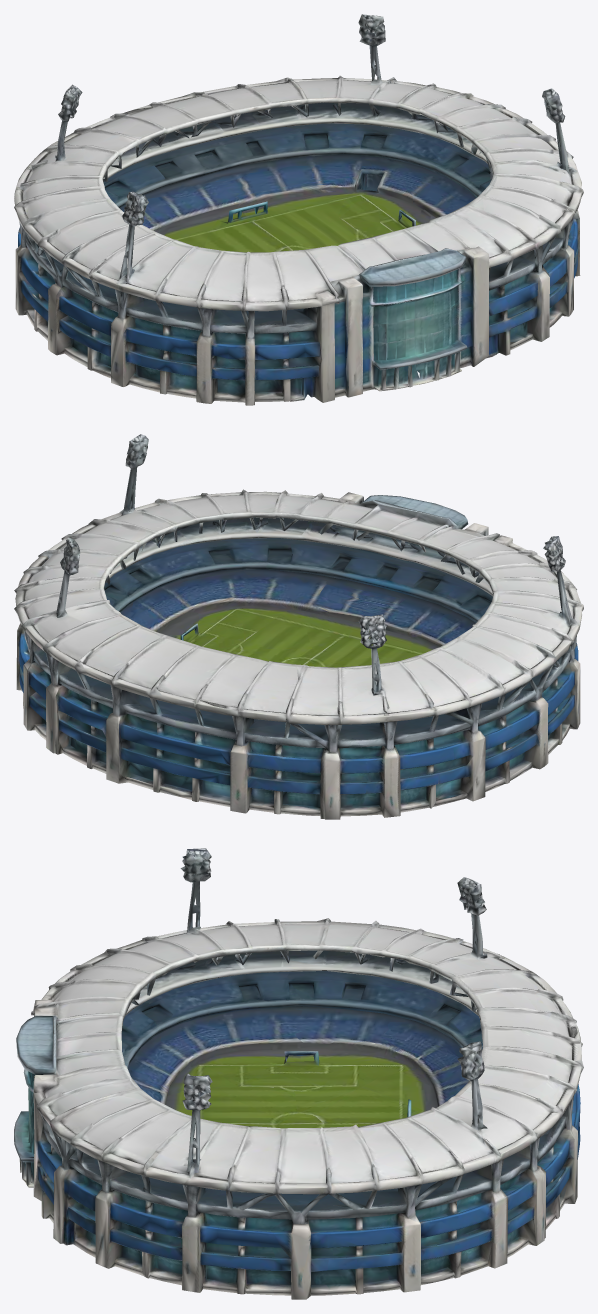
File: stadium-bowl.glb
The picture shows the model from 3 angles, top to bottom: view 1: azimuth 30°, elevation 25°; view 2: azimuth 150°, elevation 25°; view 3: azimuth 270°, elevation 25°; orthographic projection. The views are drawn at different scales.
Visible parts, largest first — view 1: stadium-bowl; view 2: stadium-bowl; view 3: stadium-bowl.
Boxes of the visible parts, box(x1,y1,x2,y2) form: stadium-bowl: box(14, 14, 583, 405); stadium-bowl: box(14, 434, 583, 819); stadium-bowl: box(14, 848, 583, 1299).
Size of the model in its own units: 61.55 by 22 by 55.17.
Materials: 1 (1 with a texture image).
